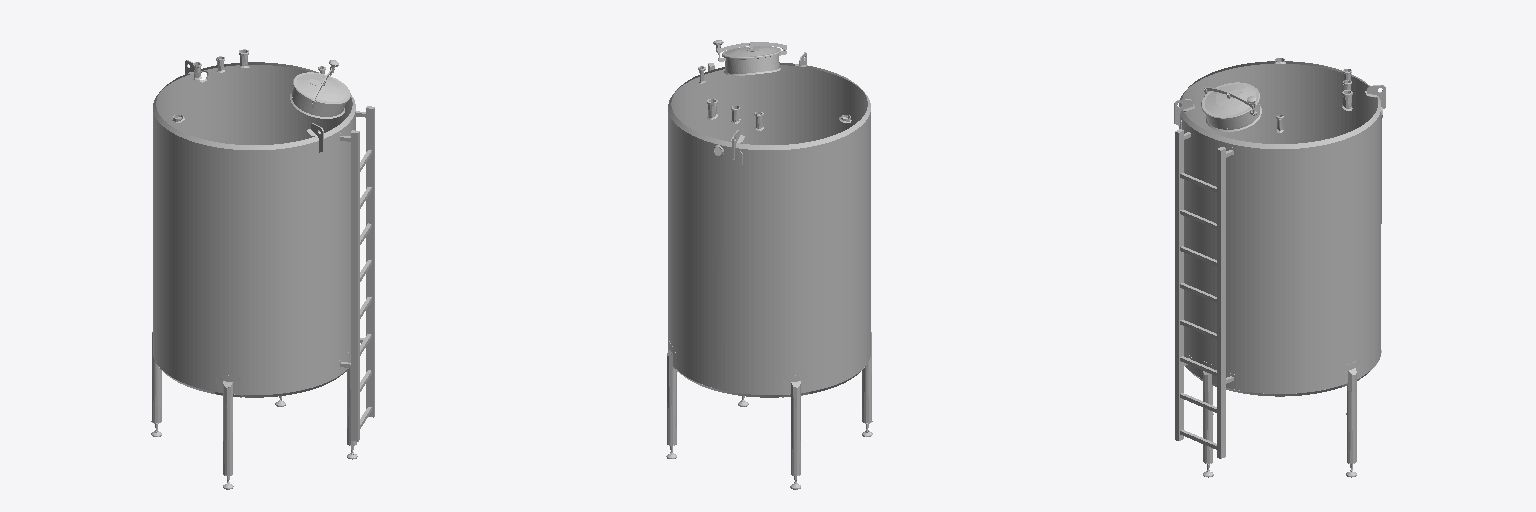
Rendered from TanqueAlmacenamientoAgua.obj.
3 views of the same model, side by side, from view 1: azimuth 30°, elevation 25°; view 2: azimuth 150°, elevation 25°; view 3: azimuth 270°, elevation 25° (orthographic).
Parts seen in each view (by area): view 1: obj1; view 2: obj1; view 3: obj1.
Boxes of the visible parts, x1,y1,x2,y2 form: obj1: [151, 49, 374, 489]; obj1: [666, 40, 872, 489]; obj1: [1174, 58, 1385, 477].
Bounding box in the file's own units: 1532 × 3103 × 1566.